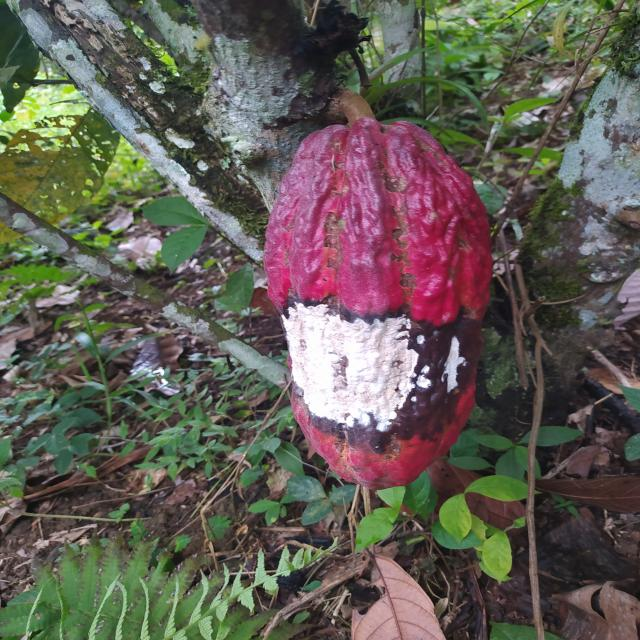Monilia: (267, 118, 492, 492)
